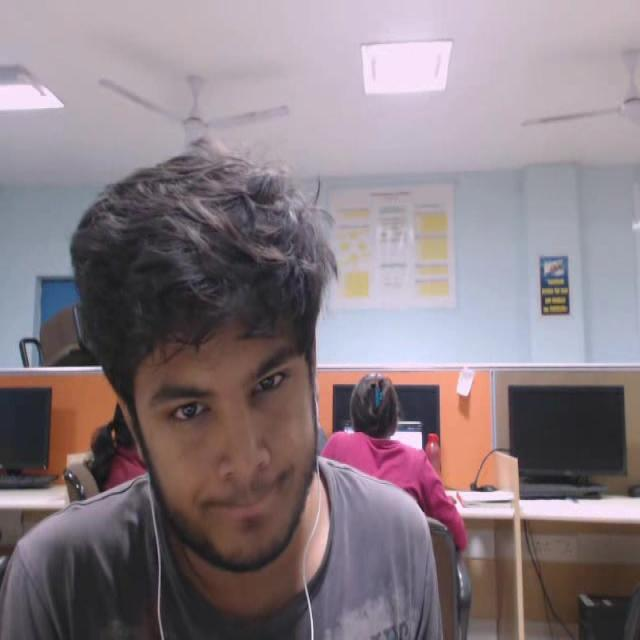Bored: (63, 127, 354, 598)
